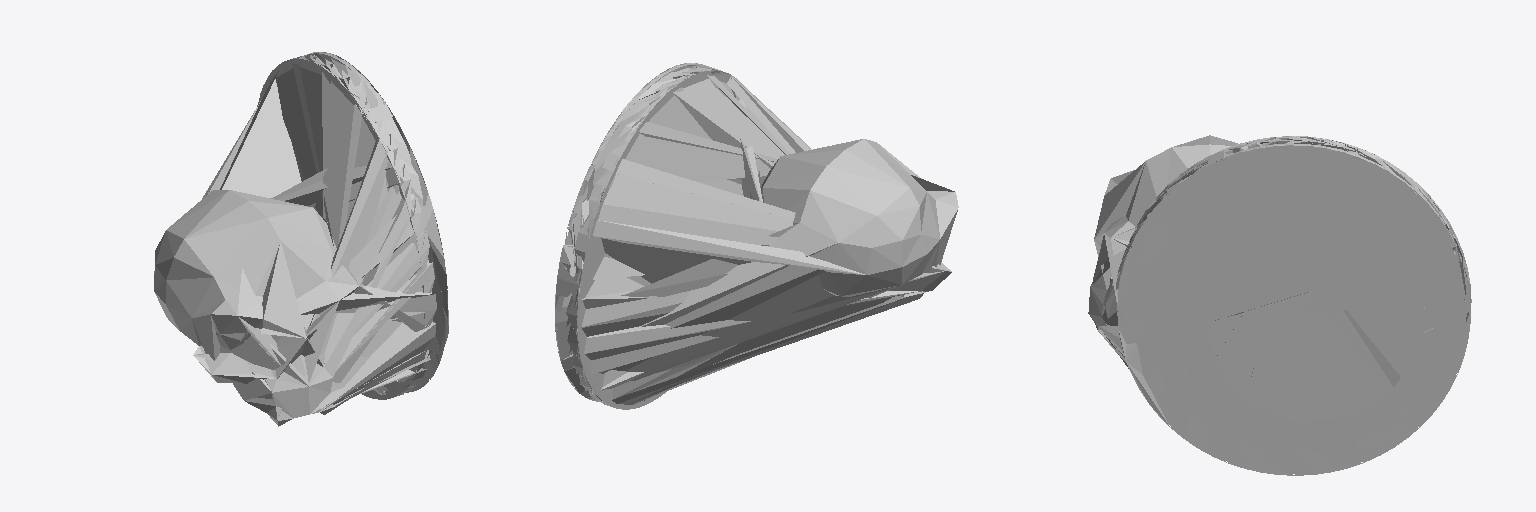
File: fantom.obj
3 views of the same model, side by side, from view 1: azimuth 30°, elevation 25°; view 2: azimuth 150°, elevation 25°; view 3: azimuth 270°, elevation 25° (orthographic).
Parts seen in each view (by area): view 1: Cylinder, skull2_obj; view 2: Cylinder, skull2_obj; view 3: Cylinder, skull2_obj.
Part boxes in pixels (x1,y1,x2,y2): Cylinder: (184,52,448,419); skull2_obj: (154,190,361,426); Cylinder: (555,63,957,409); skull2_obj: (761,139,958,297); Cylinder: (1089,136,1471,475); skull2_obj: (1088,135,1237,329).
Size of the model in its own units: 31.64 by 38.91 by 42.01.